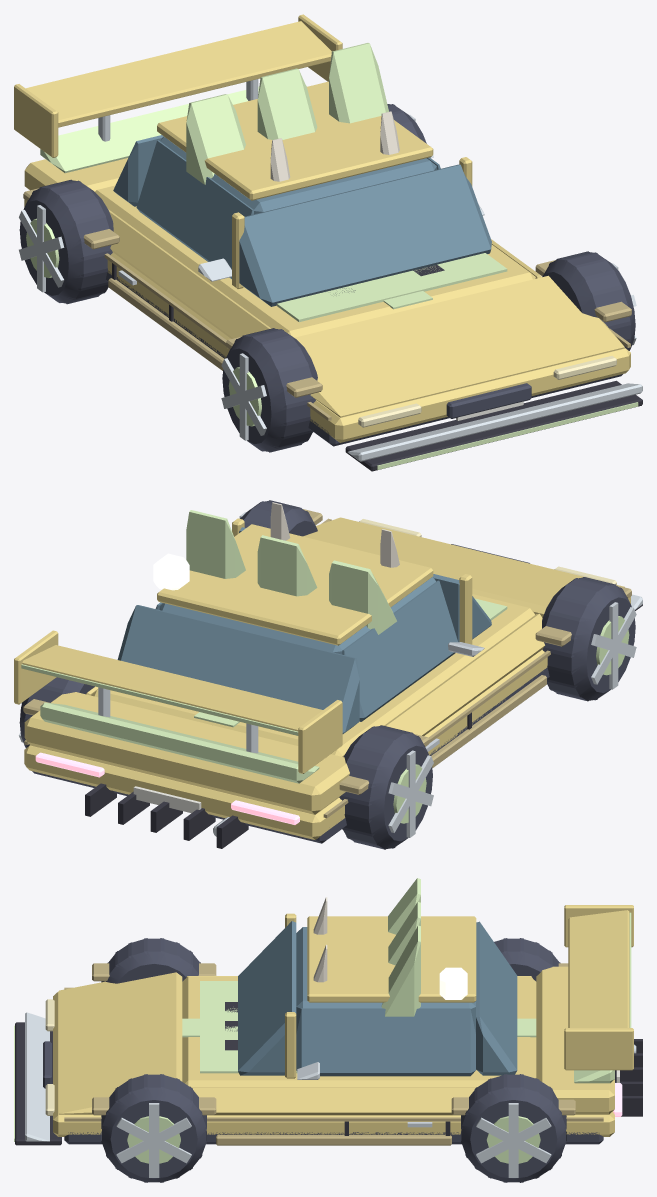
File: fairy_flyer.fbx
3 views of the same model, one above another, from view 1: azimuth 30°, elevation 25°; view 2: azimuth 150°, elevation 25°; view 3: azimuth 270°, elevation 25° (orthographic). The views are drawn at different scales.
Visible parts, largest first — view 1: Body, Glass, Light, Accent3, Wheel_FR, Wheel_RR, Accent, Accent2, Trim, Metal, Wheel_FL, Trim2 (+3 smaller); view 2: Body, Glass, Light, Wheel_FR, Wheel_RR, Accent3, Metal, Accent, Trim, Light3, Wheel_FL, Trim2 (+7 smaller); view 3: Body, Glass, Wheel_RL, Wheel_FL, Accent, Light, Metal, Accent3, Trim, Wheel_FR, Accent2, Trim2 (+5 smaller).
Part boxes in pixels (x1,y1,x2,y2): Body: (14,14,630,442); Glass: (113,135,491,306); Light: (186,43,638,469); Accent3: (40,85,507,322); Wheel_FR: (222,328,317,452); Wheel_RR: (19,179,113,304); Accent: (23,188,631,420); Accent2: (198,204,642,461); Trim: (112,263,642,471); Metal: (19,79,636,440); Wheel_FL: (542,251,635,350); Trim2: (106,270,622,446); Body: (14,517,630,839); Glass: (117,527,491,733); Light: (21,510,396,735); Wheel_FR: (542,577,635,701); Wheel_RR: (339,725,432,849); Accent3: (40,598,507,783); Metal: (19,512,636,837); Accent: (23,509,631,818); Trim: (85,604,642,848); Light3: (35,752,299,824); Wheel_FL: (240,500,317,536); Trim2: (32,544,549,843); Body: (53,905,633,1136); Glass: (238,921,517,1076); Wheel_RL: (461,1074,566,1182); Wheel_FL: (101,1074,206,1182); Accent: (64,963,603,1145); Light: (14,878,631,1141); Metal: (116,1044,636,1177); Accent3: (200,981,614,1083); Trim: (15,1002,642,1145); Wheel_FR: (101,938,200,983); Accent2: (25,1012,319,1141); Trim2: (43,1041,603,1144).
Size of the model in its own units: 3.4 by 2.02 by 5.6.
